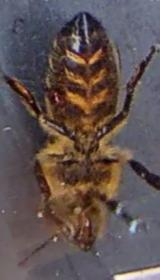varroa_mite: (42, 87, 66, 107)
